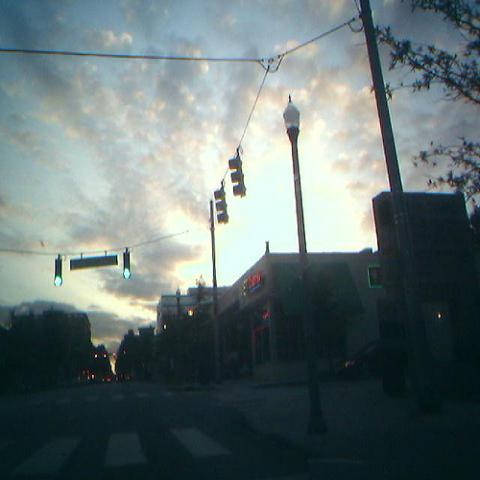car: (342, 341, 380, 376), (101, 372, 114, 384)
